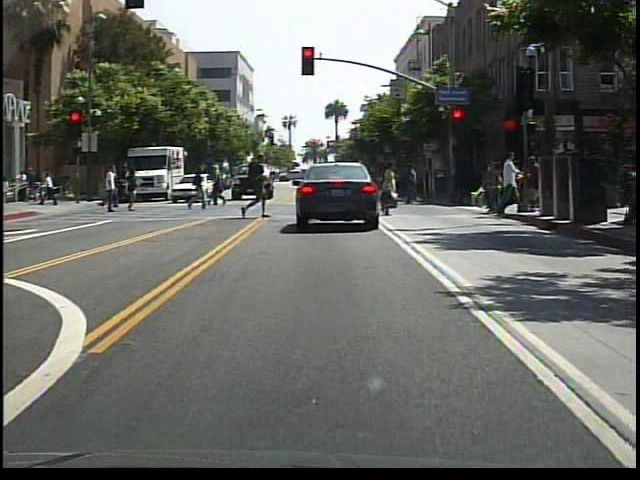person: (241, 150, 275, 224), (492, 149, 525, 212), (103, 165, 126, 217), (380, 162, 401, 218), (97, 166, 120, 213), (190, 168, 210, 215), (211, 165, 229, 209), (125, 169, 140, 214)
